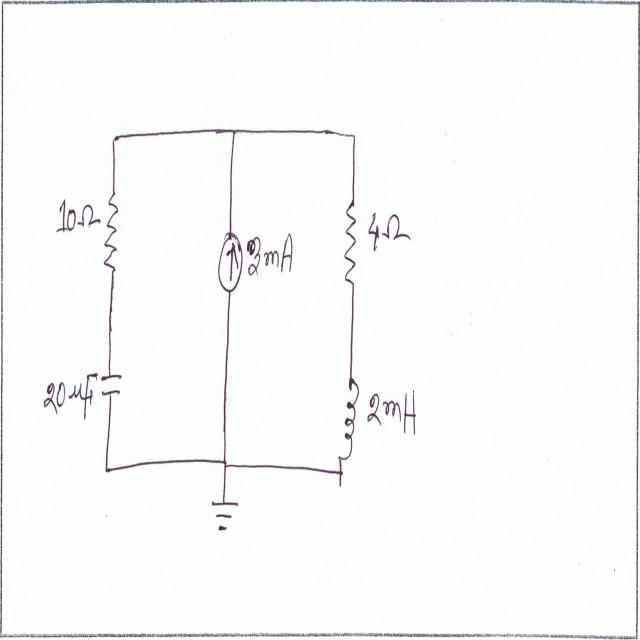capacitor: (101, 368, 125, 405)
current_source: (218, 222, 244, 298)
ground: (210, 490, 242, 546)
inductor: (339, 373, 362, 462)
resistor: (102, 182, 122, 276), (341, 196, 361, 289)
